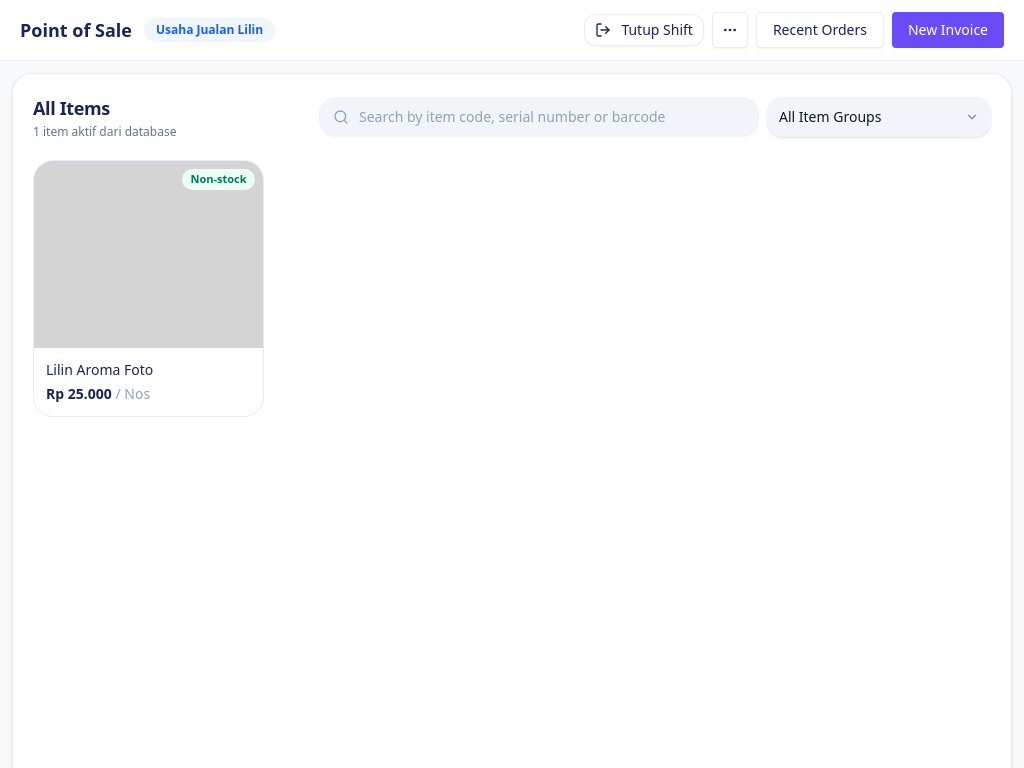
Test: PointOfSalePage › renders item image in catalog card, side cart, and checkout view when item has an image
The image size is (1024, 768).
Later steps or results of the test are not shown.
# Click to add to cart
Click the text "Lilin Aroma Foto".
click(100, 370)  # box [46,360,153,379]
(page scrolled)
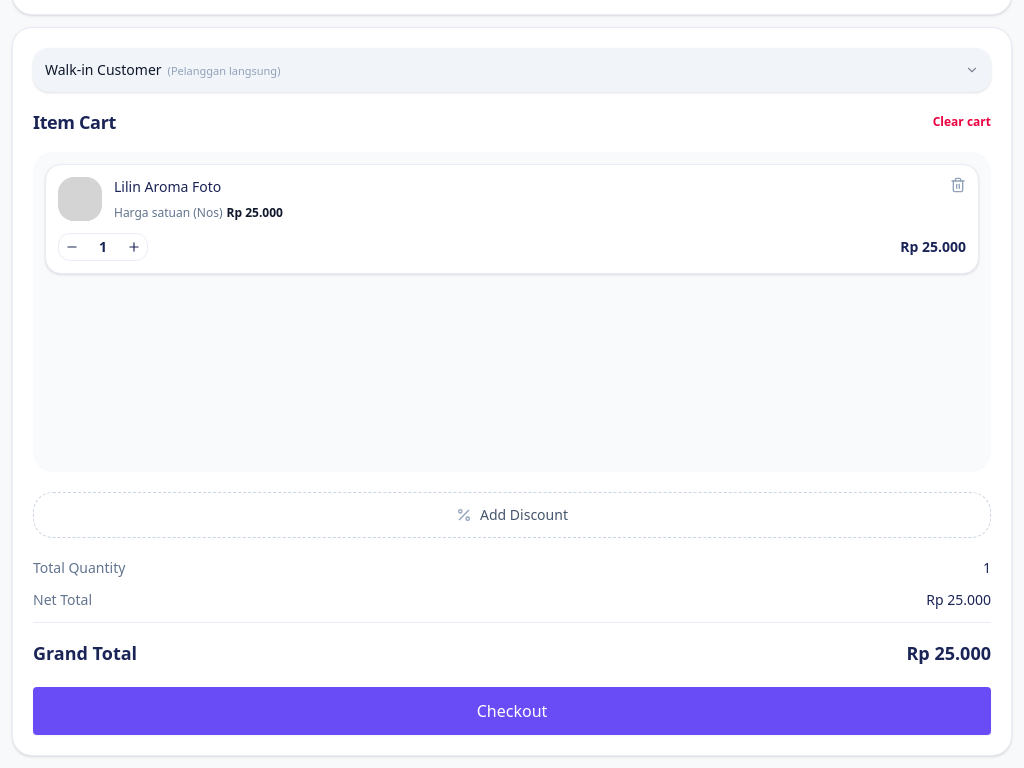
Now the number of elements with alt text "Lilin Aroma Foto" is 2
